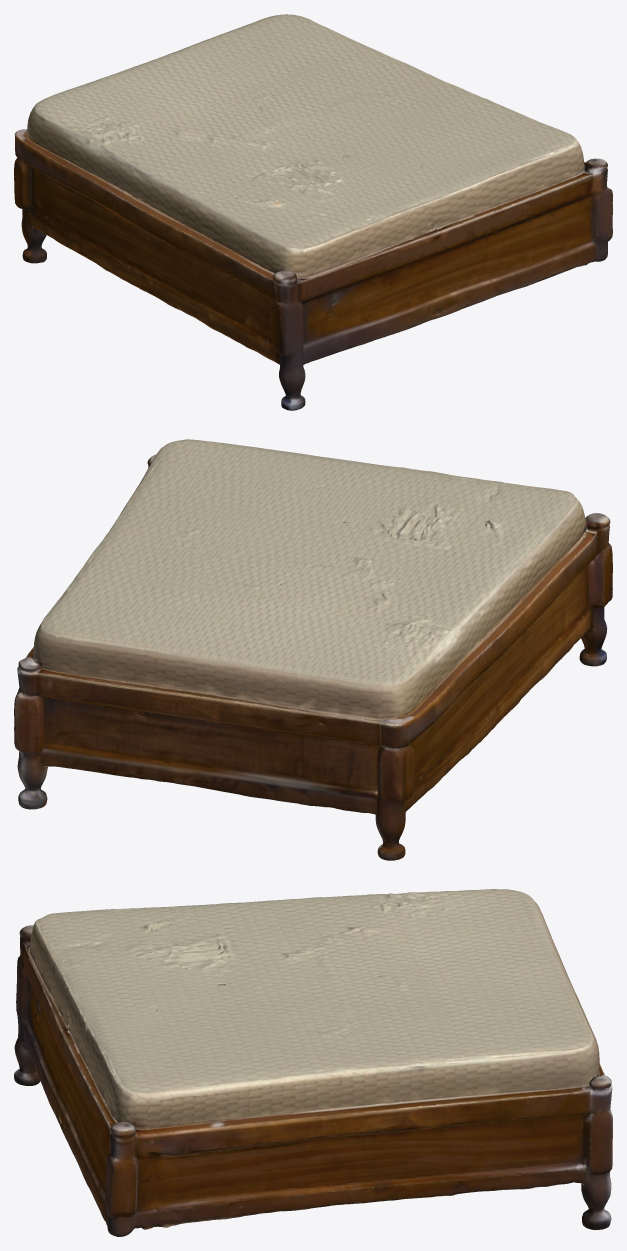
Rendered from wood-bed-lux3d.glb.
The picture shows the model from 3 angles, top to bottom: view 1: azimuth 30°, elevation 25°; view 2: azimuth 150°, elevation 25°; view 3: azimuth 270°, elevation 25°; orthographic projection. The views are drawn at different scales.
Visible parts, largest first — view 1: geometry_0; view 2: geometry_0; view 3: geometry_0.
Part boxes in pixels (left/top/right/bottom): geometry_0: left=14, top=14, right=612, bottom=410; geometry_0: left=14, top=439, right=612, bottom=860; geometry_0: left=14, top=889, right=612, bottom=1236.
Size of the model in its own units: 2.18 by 0.8154 by 2.42.
1 material, 1 textured.
